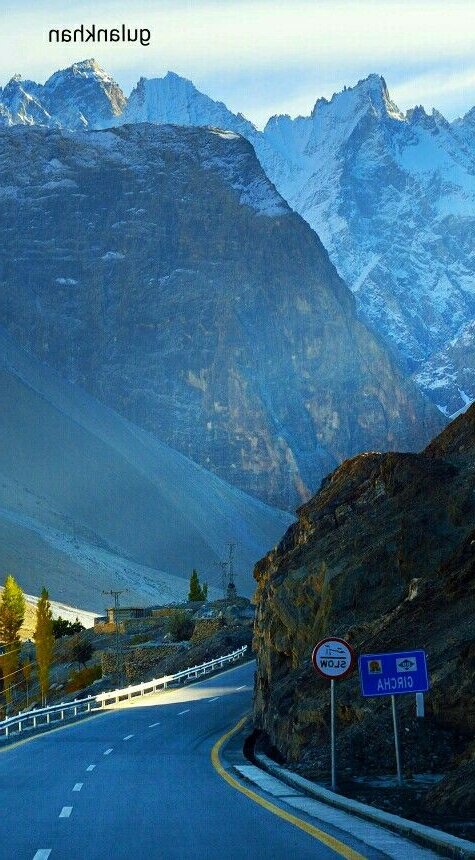rightTrun: (13, 665, 269, 860)
